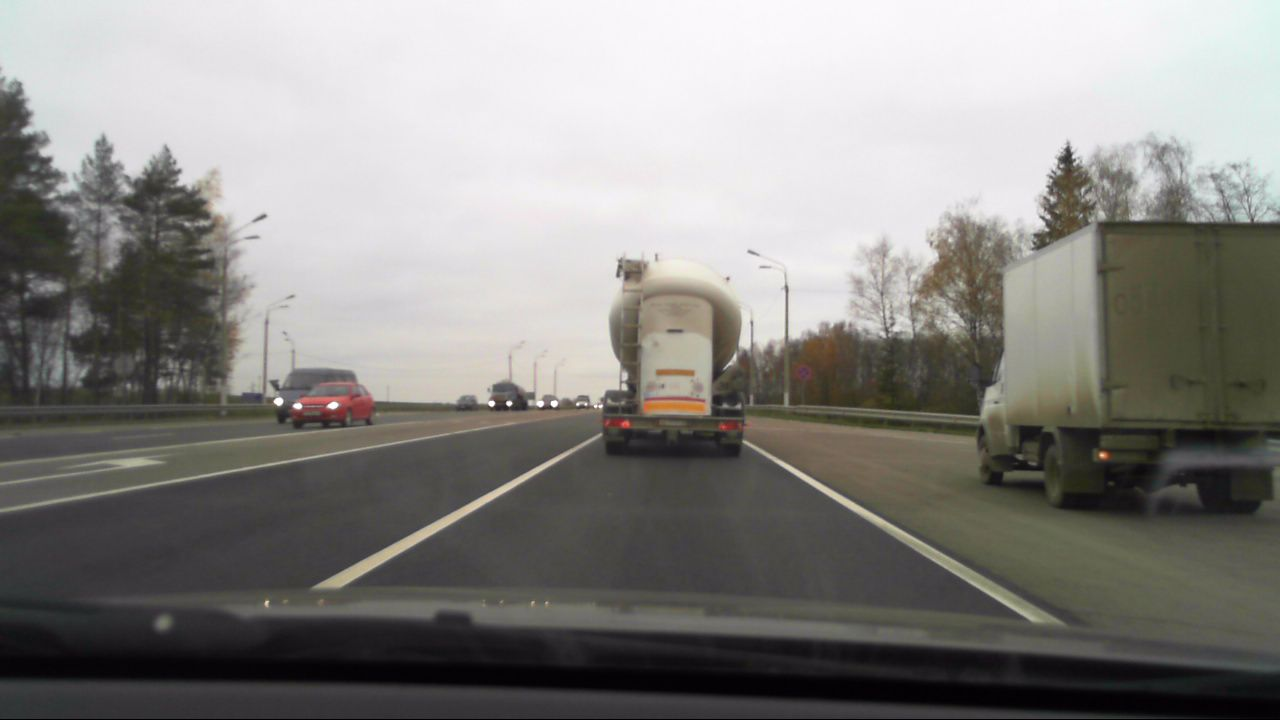No Parking: (793, 361, 815, 387)
